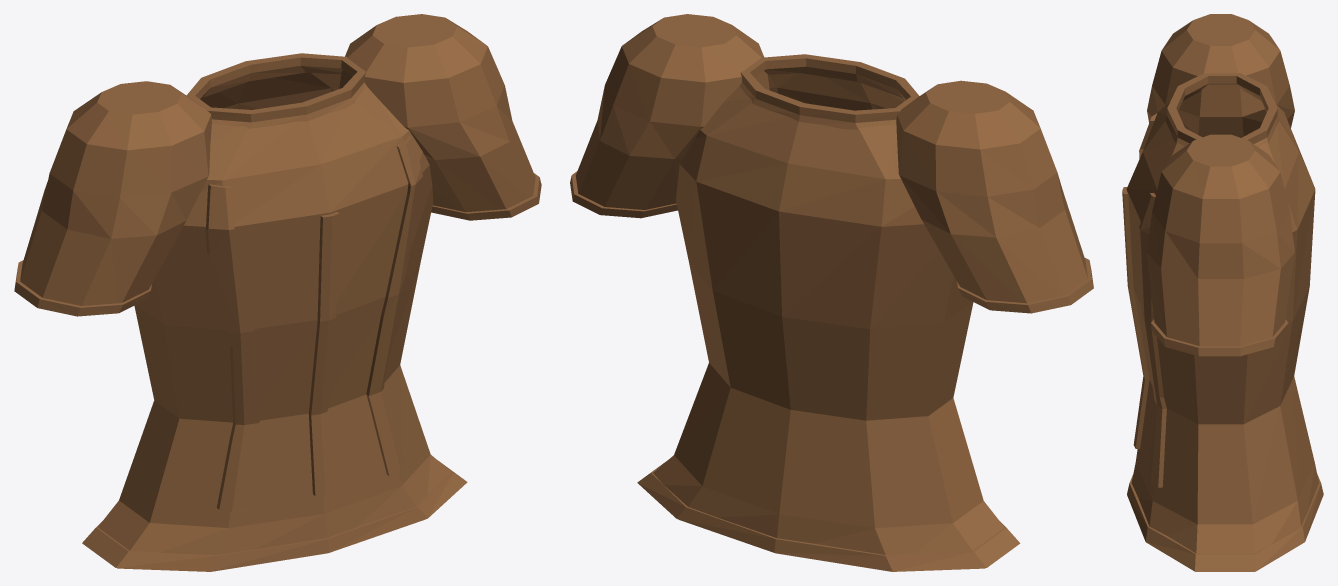
Rendered from leather_chest-female.glb.
3 views of the same model, side by side, from view 1: azimuth 30°, elevation 25°; view 2: azimuth 150°, elevation 25°; view 3: azimuth 270°, elevation 25° (orthographic). The views are drawn at different scales.
Visible parts, largest first — view 1: leather tunic torso, leather upper sleeve -1, leather upper sleeve 1, Sewn tunic side facing -1, Bound tunic hem, Fitted tunic neckline, Sewn tunic side facing 1, Reinforced tunic closure, Sleeve cuff binding -1, Sleeve cuff binding 1; view 2: leather tunic torso, leather upper sleeve -1, leather upper sleeve 1, Bound tunic hem, Fitted tunic neckline, Sleeve cuff binding -1, Sleeve cuff binding 1; view 3: leather tunic torso, leather upper sleeve 1, leather upper sleeve -1, Bound tunic hem, Sewn tunic side facing 1, Fitted tunic neckline, Reinforced tunic closure, Sleeve cuff binding 1.
Boxes of the visible parts, x1,y1,x2,y2 form: leather tunic torso: (98, 72, 451, 571); leather upper sleeve -1: (20, 81, 211, 305); leather upper sleeve 1: (339, 14, 535, 212); Sewn tunic side facing -1: (205, 184, 260, 511); Bound tunic hem: (82, 461, 467, 571); Fitted tunic neckline: (186, 53, 367, 128); Sewn tunic side facing 1: (366, 136, 423, 476); Reinforced tunic closure: (308, 212, 339, 496); Sleeve cuff binding -1: (14, 260, 151, 316); Sleeve cuff binding 1: (431, 173, 541, 220); leather tunic torso: (653, 73, 1004, 571); leather upper sleeve -1: (896, 80, 1087, 303); leather upper sleeve 1: (575, 14, 769, 209); Bound tunic hem: (637, 460, 1020, 571); Fitted tunic neckline: (740, 54, 919, 129); Sleeve cuff binding -1: (957, 258, 1093, 313); Sleeve cuff binding 1: (570, 171, 677, 218); leather tunic torso: (1126, 100, 1318, 571); leather upper sleeve 1: (1147, 134, 1294, 346); leather upper sleeve -1: (1147, 14, 1294, 137); Bound tunic hem: (1127, 473, 1323, 571); Sewn tunic side facing 1: (1139, 193, 1166, 487); Fitted tunic neckline: (1165, 73, 1279, 146); Reinforced tunic closure: (1122, 187, 1149, 448); Sleeve cuff binding 1: (1151, 319, 1288, 356).
Size of the model in its own units: 3.06 by 2.62 by 1.18.
